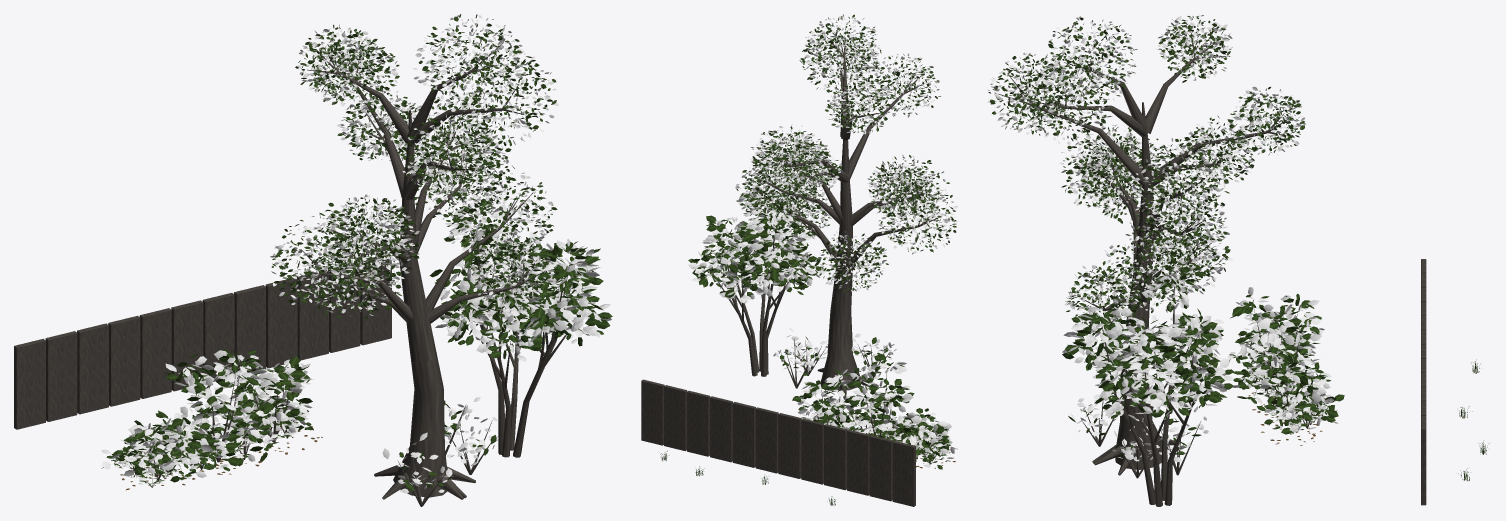
File: SM_Env_Tile_m2_p2.fbx
The picture shows the model from 3 angles, left to right: view 1: azimuth 30°, elevation 25°; view 2: azimuth 150°, elevation 25°; view 3: azimuth 270°, elevation 25°; orthographic projection. The views are drawn at different scales.
Parts seen in each view (by area): view 1: SM_Env_Tile_m2_p2; view 2: SM_Env_Tile_m2_p2; view 3: SM_Env_Tile_m2_p2.
Boxes of the visible parts, x1,y1,x2,y2 form: SM_Env_Tile_m2_p2: (14,14,612,506); SM_Env_Tile_m2_p2: (641,14,957,506); SM_Env_Tile_m2_p2: (987,14,1489,506).
Size of what is drawn, in the model's own units: 1390 by 1497 by 1458.
7 materials, 3 textured.
